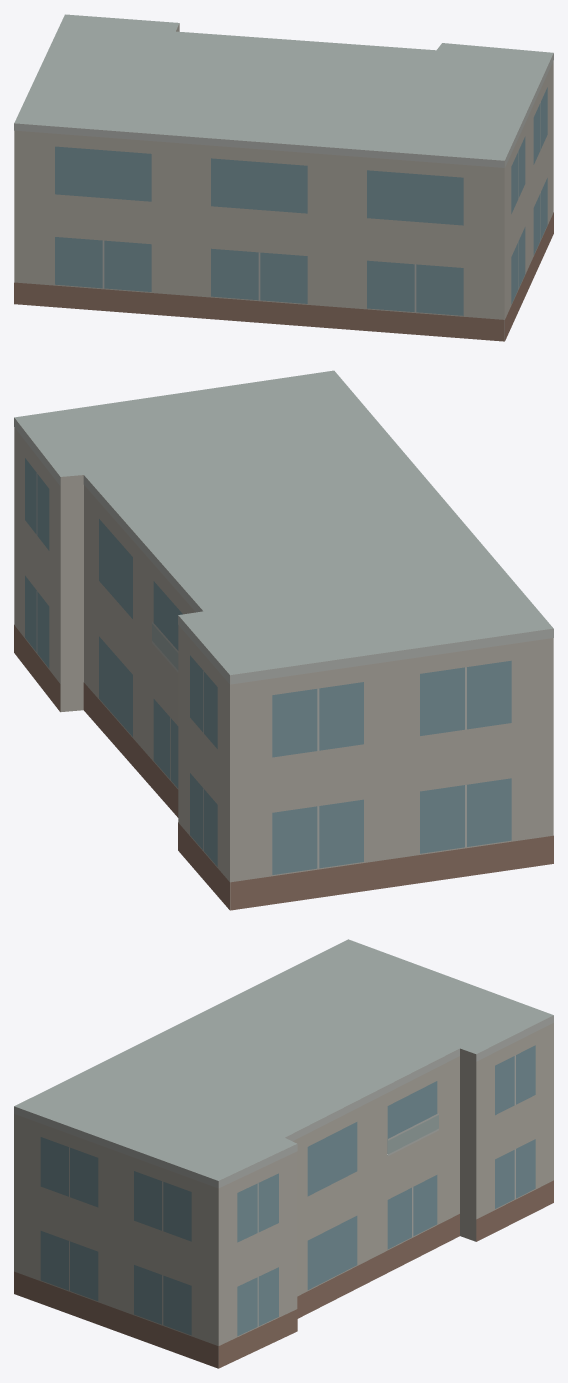
File: survey-upis-32657373.glb
3 renders of one model, top to bottom at view 1: azimuth 30°, elevation 25°; view 2: azimuth 150°, elevation 25°; view 3: azimuth 270°, elevation 25°, orthographic. The views are drawn at different scales.
Parts seen in each view (by area): view 1: survey-upis-32657373.tmp; view 2: survey-upis-32657373.tmp; view 3: survey-upis-32657373.tmp.
Part boxes in pixels (x1=…): survey-upis-32657373.tmp: x1=14, y1=14, x2=553, y2=341; survey-upis-32657373.tmp: x1=14, y1=370, x2=553, y2=910; survey-upis-32657373.tmp: x1=14, y1=939, x2=553, y2=1368.
Bounding box in the file's own units: 16.86 × 6.1 × 15.91.
